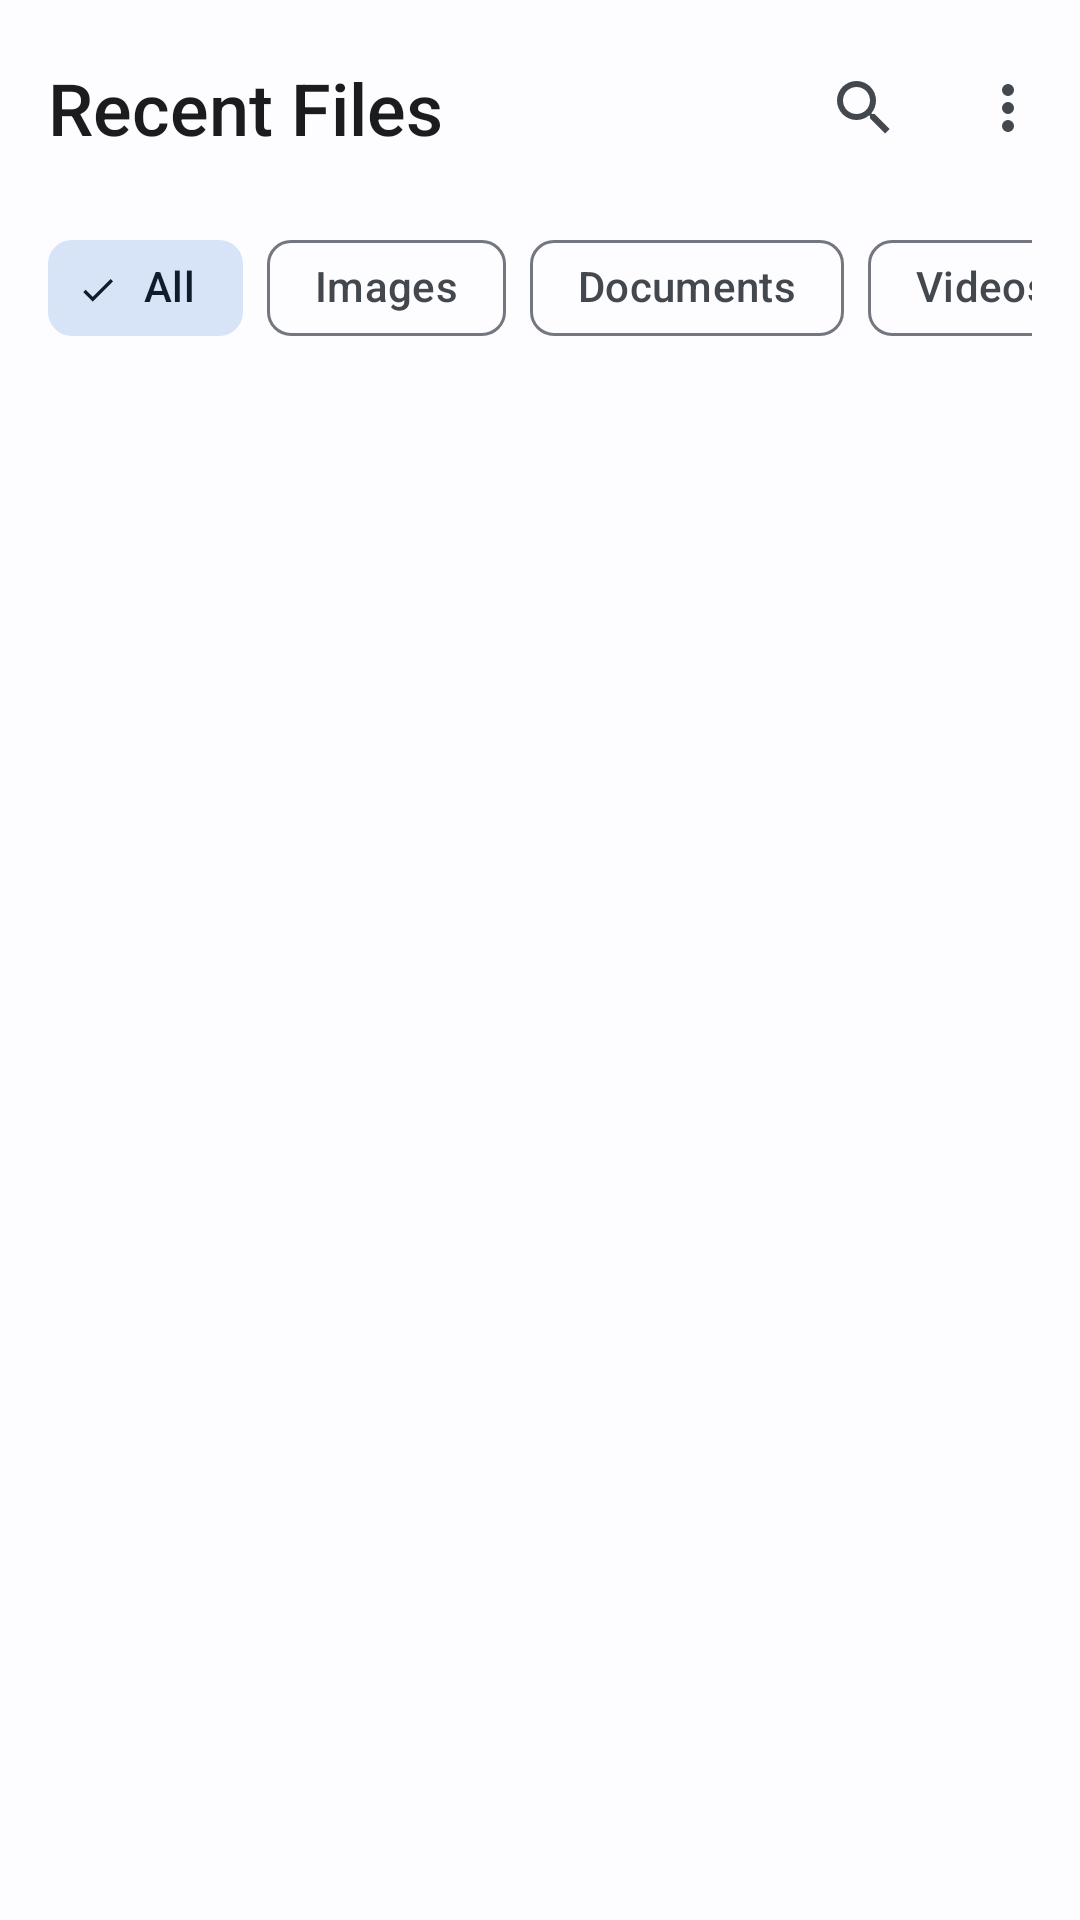

Locate icon controls on the screen. Image size 1080×1920, boxes as (x1, y1, x2, y2).
More options: (1002, 84, 1014, 132)
Search: (837, 81, 890, 134)
